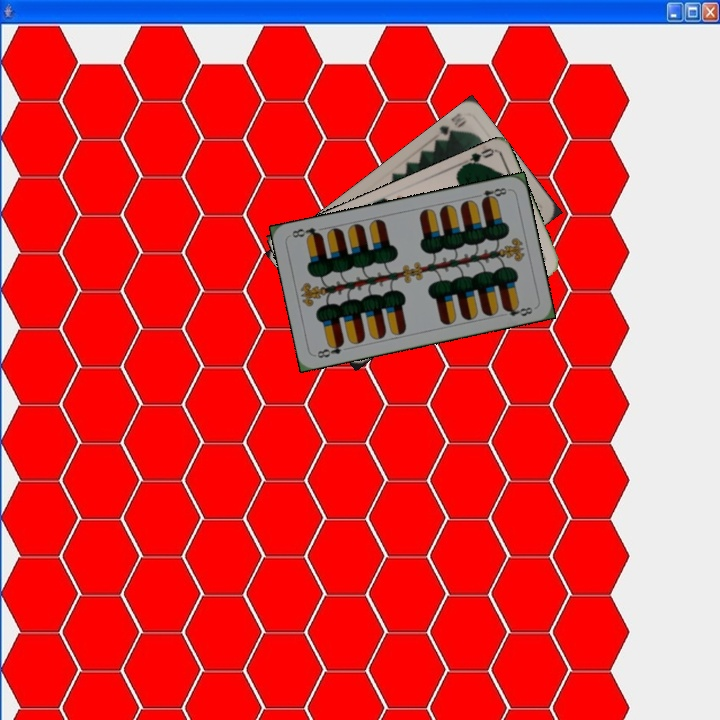E8: (471, 184, 511, 205), (313, 338, 347, 361)
G10: (435, 109, 468, 142)
GO: (456, 144, 496, 171)
